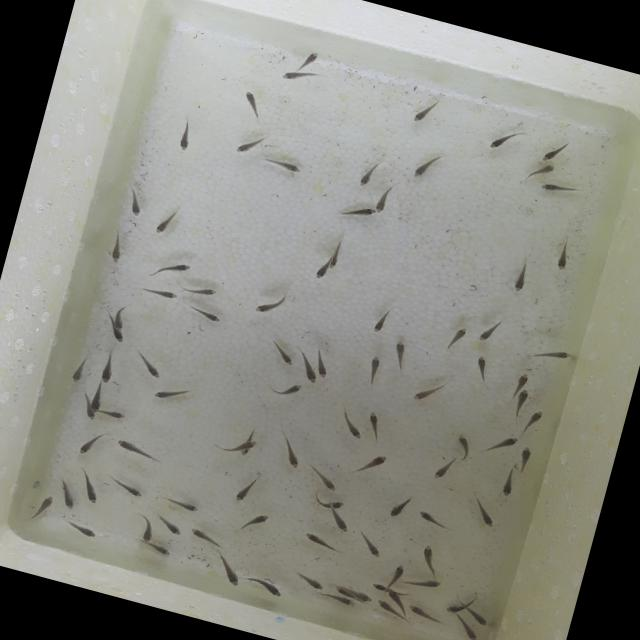fingerling: (406, 145, 447, 184), (546, 235, 580, 280), (404, 92, 444, 130), (230, 470, 267, 508), (152, 252, 194, 285), (530, 342, 574, 372), (484, 122, 520, 158), (352, 156, 387, 193), (272, 431, 306, 468), (276, 63, 322, 89), (233, 127, 270, 159), (150, 378, 192, 406), (112, 438, 161, 462), (252, 290, 291, 320), (538, 175, 581, 202), (412, 374, 446, 408), (358, 446, 392, 480), (73, 425, 106, 460), (508, 256, 536, 296), (520, 157, 556, 188), (236, 506, 270, 538), (258, 154, 303, 178), (153, 204, 183, 240), (291, 350, 321, 386), (237, 88, 266, 124), (356, 532, 390, 562), (474, 316, 502, 352), (302, 529, 342, 554), (160, 493, 200, 518), (269, 376, 306, 402), (538, 136, 570, 166), (416, 542, 446, 574), (30, 487, 56, 523), (336, 413, 368, 442), (334, 200, 374, 223), (406, 602, 446, 625), (485, 432, 519, 459), (181, 278, 219, 302), (310, 346, 336, 381), (187, 526, 226, 549), (446, 323, 474, 355), (369, 306, 397, 338), (216, 558, 244, 590), (65, 354, 91, 388), (384, 489, 410, 522), (246, 574, 283, 597), (426, 456, 454, 486), (406, 572, 444, 594), (78, 472, 104, 504), (303, 492, 344, 512), (372, 184, 398, 215), (470, 354, 496, 384), (55, 479, 79, 511), (173, 118, 196, 151), (470, 501, 498, 528), (190, 304, 224, 326), (293, 570, 327, 592), (506, 368, 530, 399), (264, 342, 296, 365), (451, 429, 476, 458), (313, 469, 342, 494), (138, 357, 168, 381), (326, 241, 348, 273), (514, 444, 538, 473), (141, 284, 177, 303), (113, 480, 149, 499), (125, 190, 147, 221), (328, 510, 356, 534), (387, 338, 409, 368), (496, 468, 518, 498), (362, 410, 384, 440), (108, 234, 128, 266), (110, 298, 130, 330), (155, 515, 185, 536), (521, 406, 545, 432), (416, 510, 447, 530), (363, 352, 382, 383), (65, 520, 96, 539), (297, 48, 321, 72), (513, 387, 533, 415), (137, 540, 172, 556), (234, 434, 259, 456), (100, 354, 118, 384), (326, 591, 356, 609), (76, 396, 98, 420), (311, 257, 331, 283), (140, 514, 156, 546), (387, 562, 408, 586), (90, 382, 106, 413), (373, 598, 402, 615), (386, 588, 408, 610), (466, 606, 491, 625), (459, 620, 481, 640), (109, 329, 129, 349), (103, 406, 125, 422), (444, 600, 463, 615), (370, 580, 389, 594), (334, 586, 356, 598), (352, 589, 372, 602)
